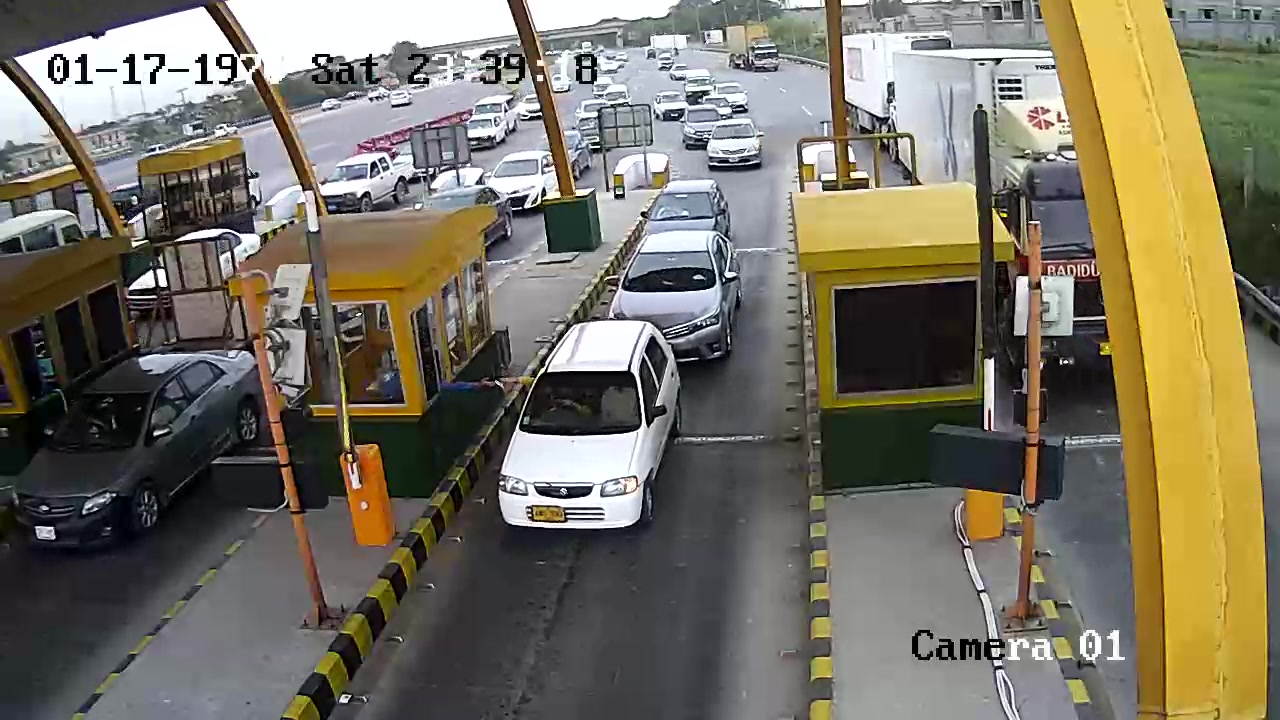F1: (486, 309, 699, 540)
